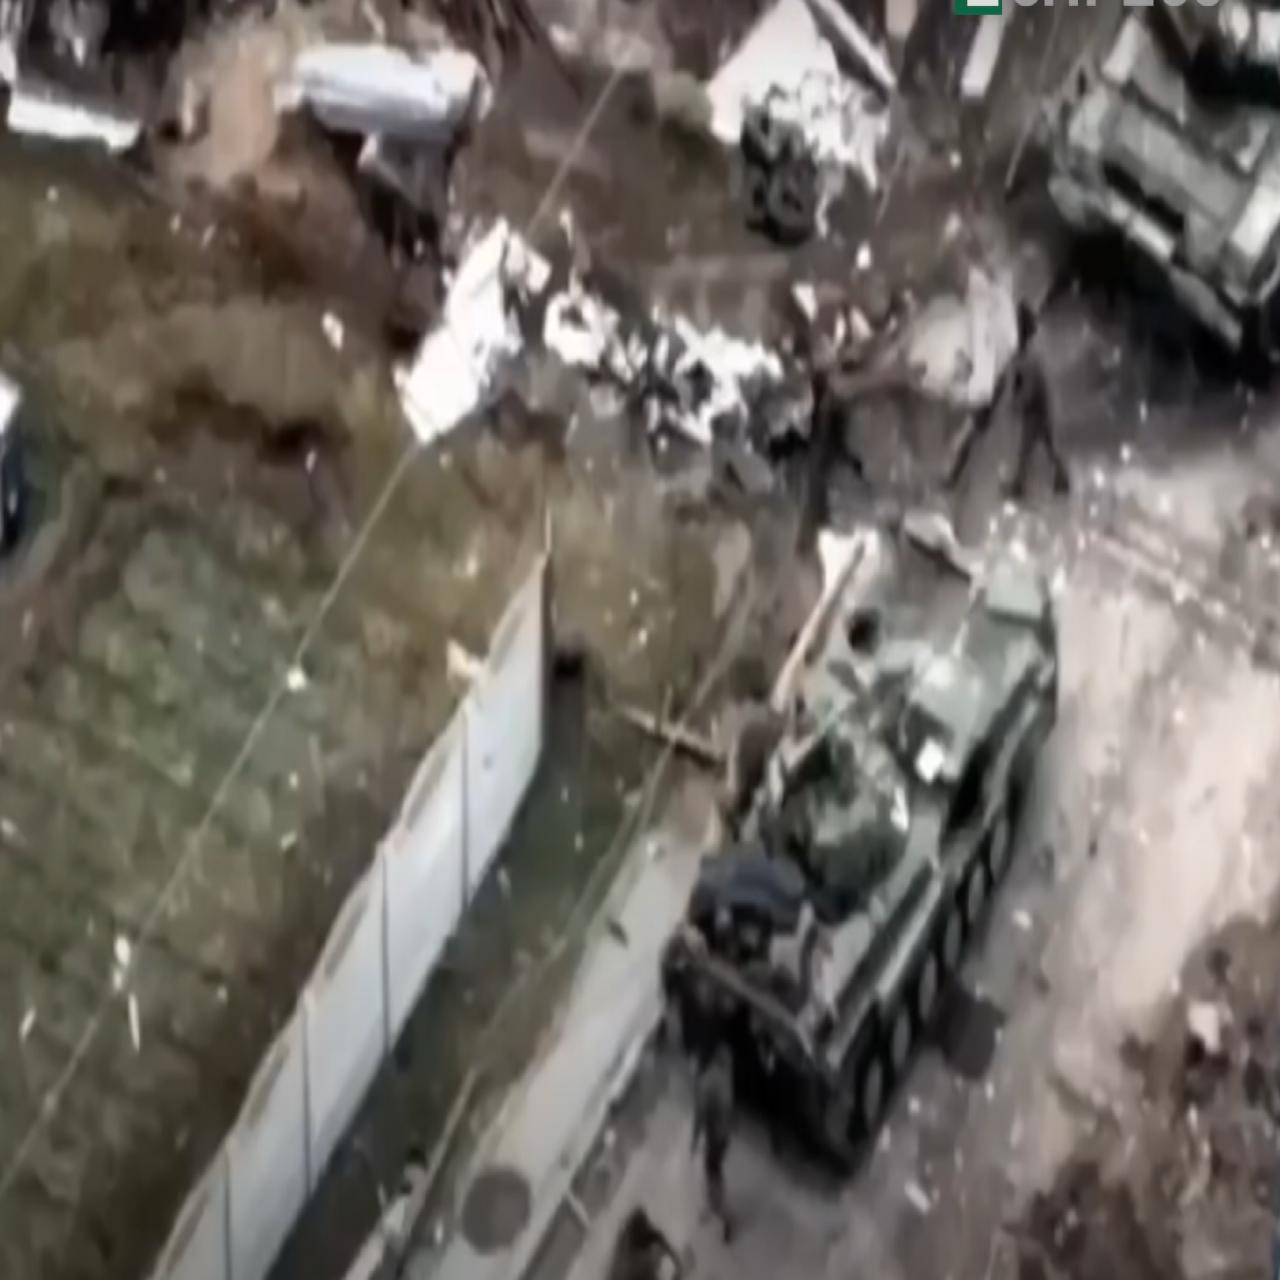MIL_Veh: (617, 510, 1062, 1166), (1049, 0, 1280, 338)
